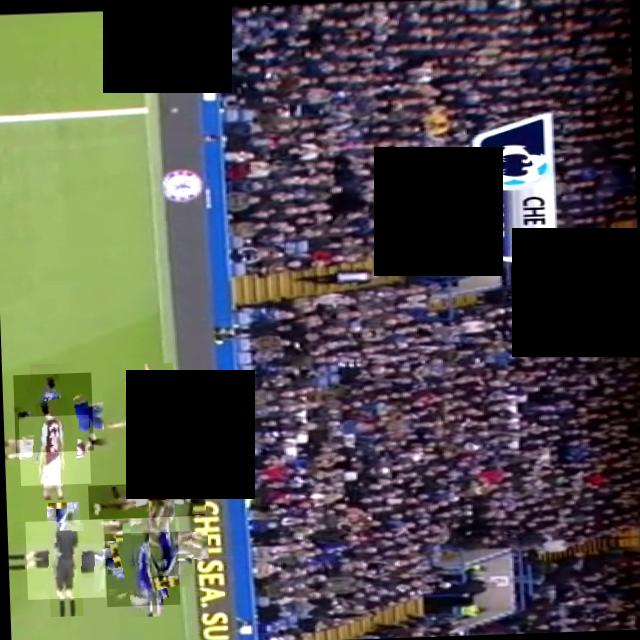referee: (24, 518, 106, 598)
soccer-player: (12, 371, 94, 452), (104, 530, 180, 606), (18, 414, 90, 484), (125, 378, 193, 446), (88, 481, 204, 518), (130, 514, 194, 576)
